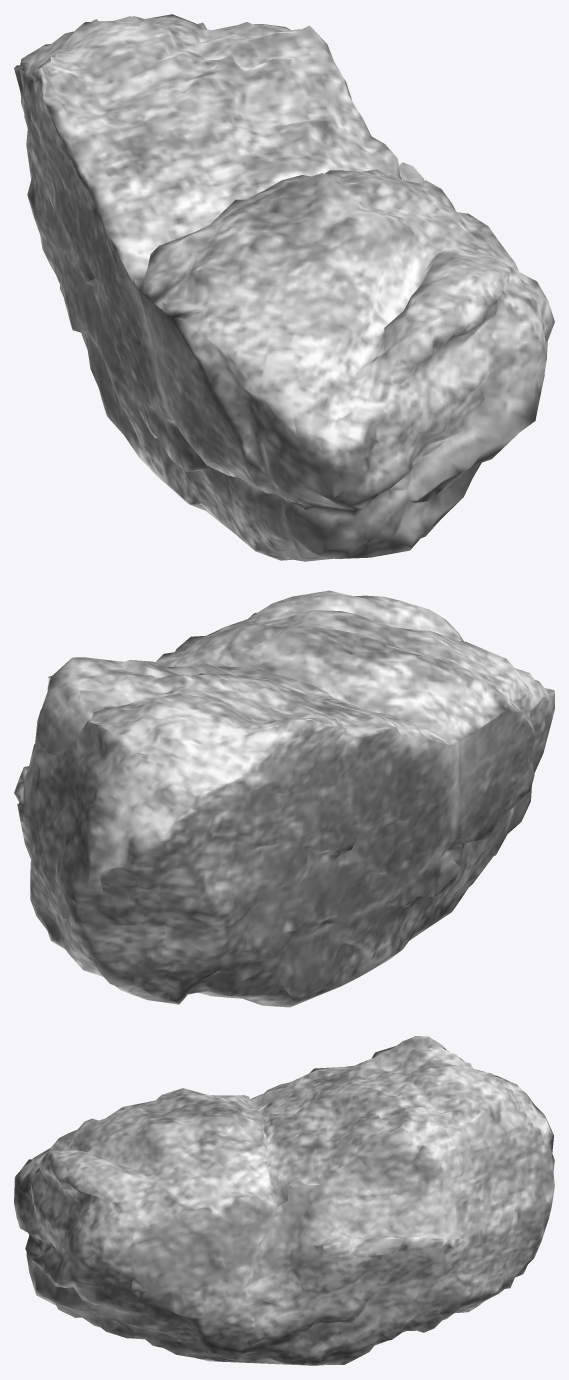
File: boulder-fieldstone-round-lod1.glb
The picture shows the model from 3 angles, top to bottom: view 1: azimuth 30°, elevation 25°; view 2: azimuth 150°, elevation 25°; view 3: azimuth 270°, elevation 25°; orthographic projection. The views are drawn at different scales.
Visible parts, largest first — view 1: namaqualand_boulder_06; view 2: namaqualand_boulder_06; view 3: namaqualand_boulder_06.
Part boxes in pixels (x1,y1,x2,y2): namaqualand_boulder_06: (14,14,554,561); namaqualand_boulder_06: (14,590,554,1007); namaqualand_boulder_06: (14,1036,554,1365).
Size of the model in its own units: 0.6725 by 0.6494 by 1.21.
Materials: 1 (1 with a texture image).
